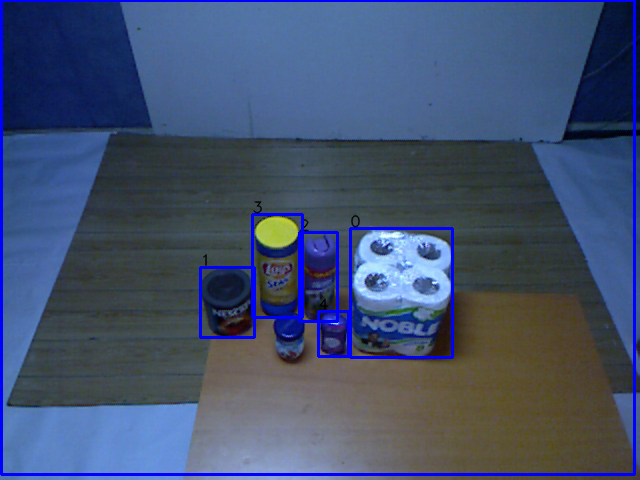aerosol: (301, 230, 339, 326)
cafe: (195, 263, 259, 343)
confort: (344, 223, 455, 363)
crema: (268, 307, 311, 364)
desodorante: (317, 308, 351, 358)
papas: (249, 212, 305, 322)
